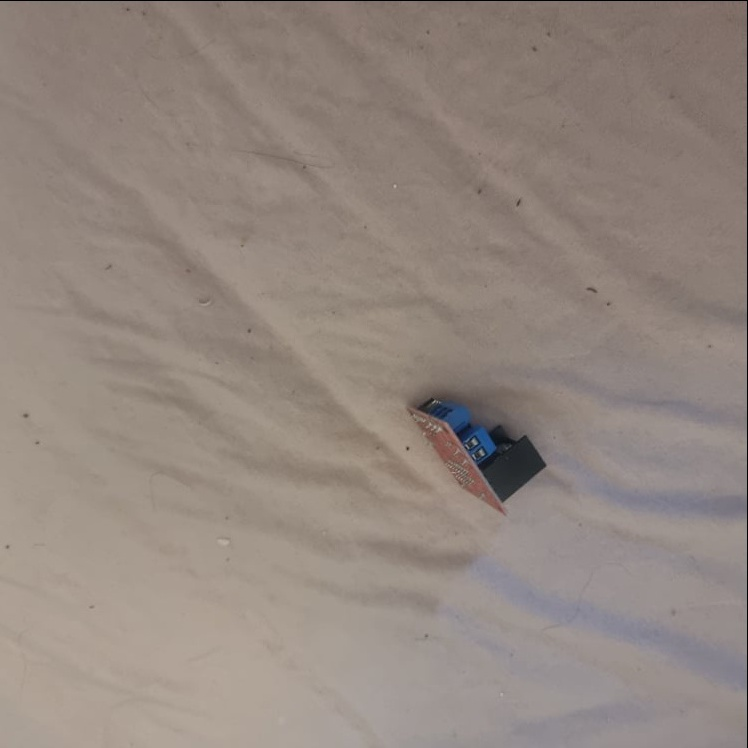MOTOR: (411, 392, 549, 513)
